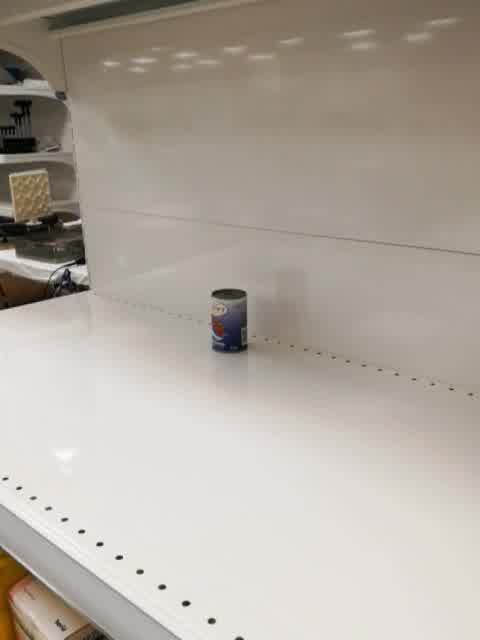sardine: (209, 287, 249, 355)
